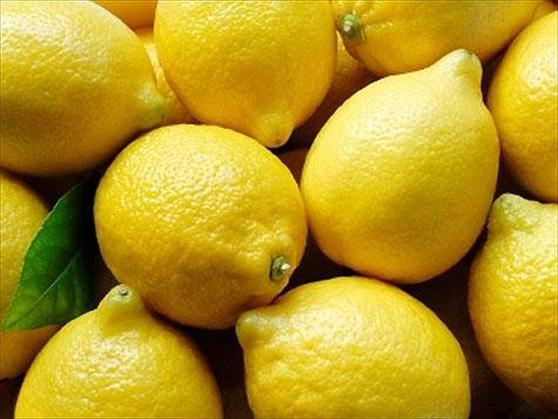lemon: (296, 56, 511, 293), (90, 106, 312, 332), (248, 269, 464, 419), (26, 291, 217, 419)
